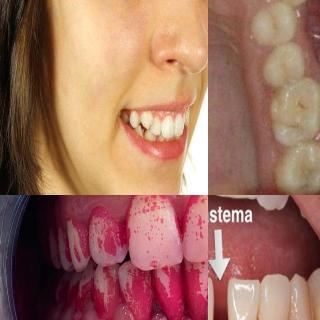cavities: (288, 97, 312, 139)
maligned: (140, 111, 153, 130), (184, 108, 190, 128)
stains: (244, 309, 271, 320)
